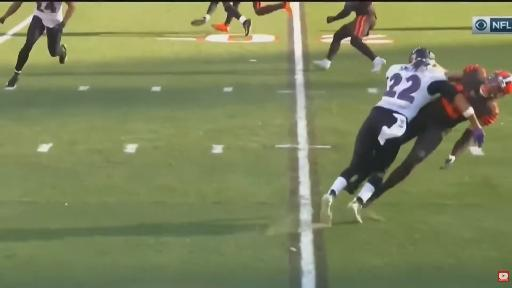Helmet: (485, 71, 511, 97), (409, 48, 435, 68)
Jersey: (377, 65, 448, 121), (455, 69, 498, 125), (34, 2, 63, 27), (345, 2, 376, 18)
Player: (321, 48, 483, 223), (367, 99, 465, 205), (7, 2, 75, 88), (314, 2, 386, 72), (403, 100, 449, 143), (222, 2, 251, 36), (253, 2, 291, 16)
